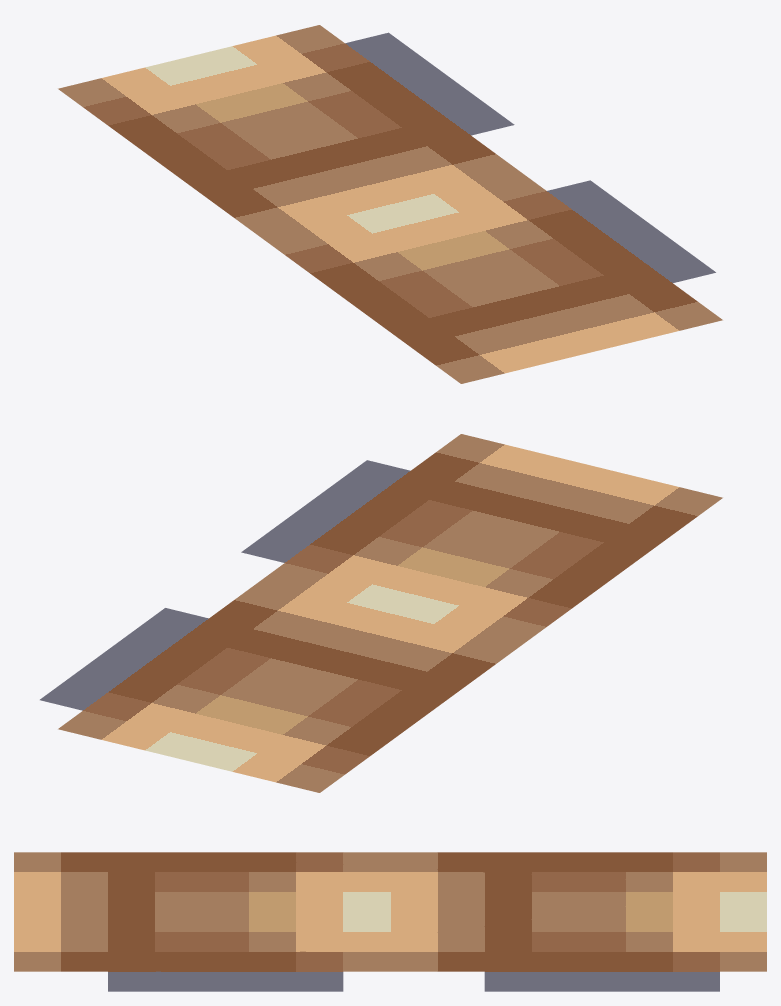
The picture shows the model from 3 angles, top to bottom: view 1: azimuth 30°, elevation 25°; view 2: azimuth 150°, elevation 25°; view 3: azimuth 270°, elevation 25°; orthographic projection. The views are drawn at different scales.
Size of the model in its own units: 0.5 by 0 by 1.
1 material, 1 textured.
